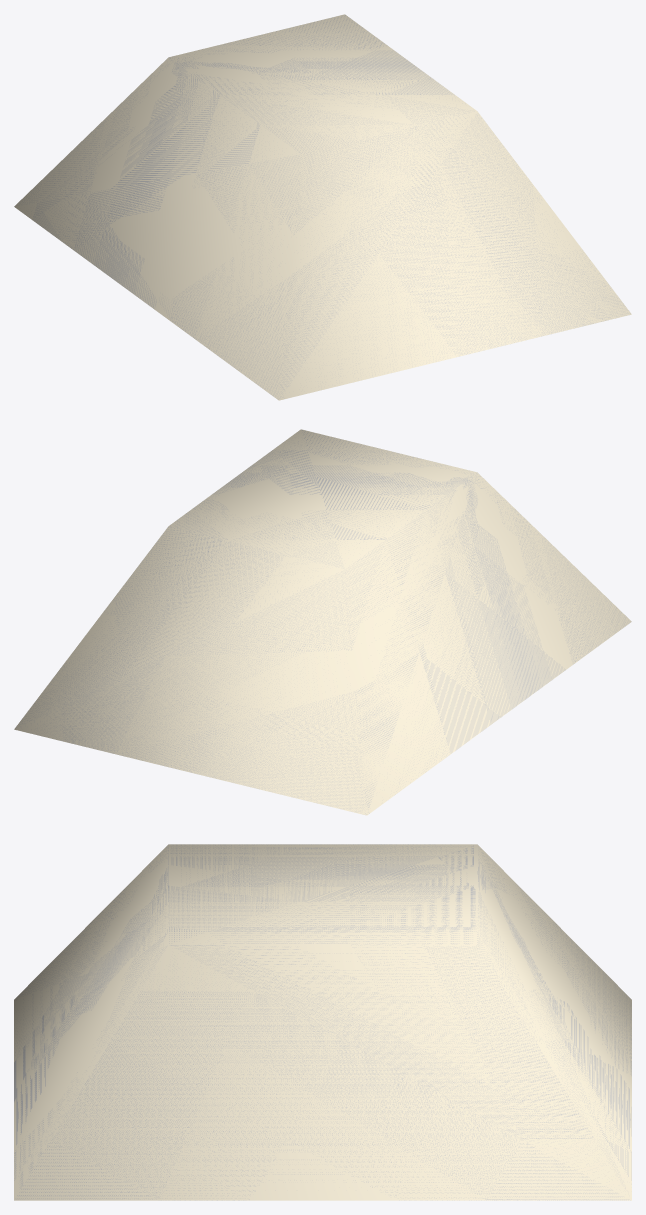
The model's file is original-52.obj.
3 renders of one model, top to bottom at view 1: azimuth 30°, elevation 25°; view 2: azimuth 150°, elevation 25°; view 3: azimuth 270°, elevation 25°, orthographic. The views are drawn at different scales.
Visible parts, largest first — view 1: Component_5_47/Component_5/mesh4/mesh4-geometry#mesh4-geometry; view 2: Component_5_47/Component_5/mesh4/mesh4-geometry#mesh4-geometry; view 3: Component_5_47/Component_5/mesh4/mesh4-geometry#mesh4-geometry.
Boxes of the visible parts, x1=… form: Component_5_47/Component_5/mesh4/mesh4-geometry#mesh4-geometry: x1=14, y1=14, x2=631, y2=400; Component_5_47/Component_5/mesh4/mesh4-geometry#mesh4-geometry: x1=14, y1=429, x2=631, y2=815; Component_5_47/Component_5/mesh4/mesh4-geometry#mesh4-geometry: x1=14, y1=844, x2=631, y2=1200.
Bounding box in the file's own units: 0.0787 × 0.0376 × 0.1023.
